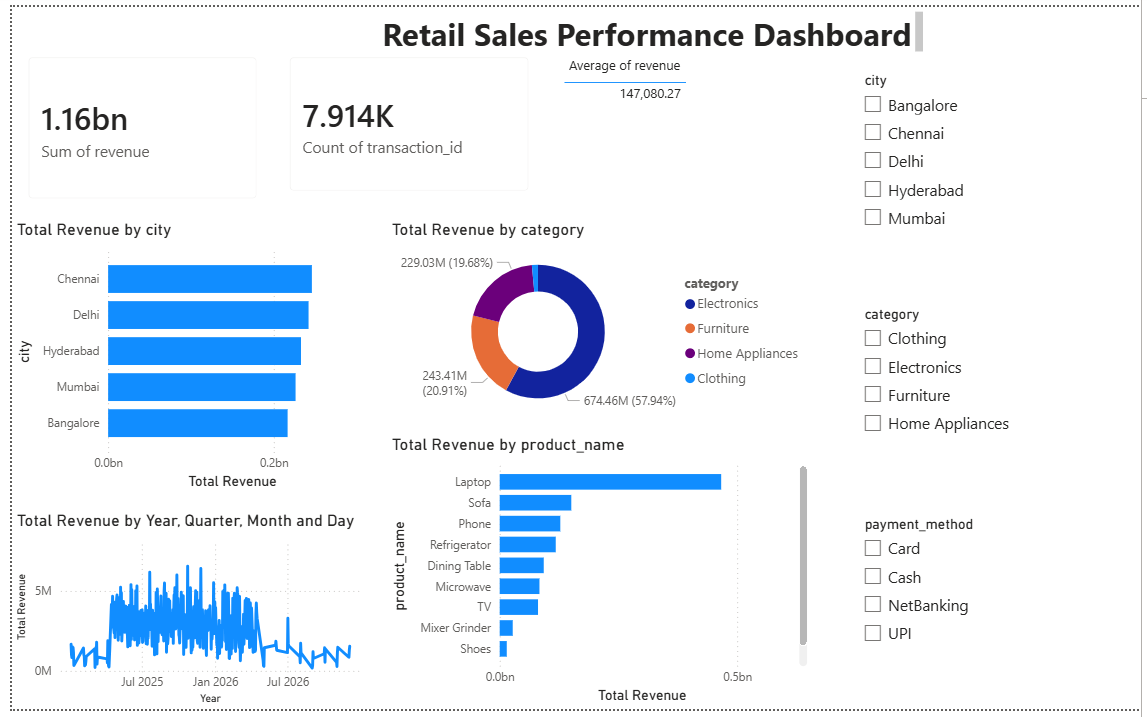

What the dashboard file says about the page in this screenshot:
{"tool":"powerbi","page":{"name":"Page 1","canvas":[1280,720],"ordinal":0},"visuals":[{"type":"cardVisual","fields":{"Data":["Sum(cleaned_retail_sales.revenue)"]},"box":[0,34.1,268.3,179.3],"z":0},{"type":"cardVisual","fields":{"Data":["CountNonNull(cleaned_retail_sales.transaction_id)"]},"box":[267.9,34.6,279.5,171.8],"z":1000},{"type":"tableEx","fields":{"Values":["Avg(cleaned_retail_sales.revenue)"]},"box":[559.7,43.1,279.2,162.5],"z":2000},{"type":"clusteredBarChart","fields":{"Category":["cleaned_retail_sales.city"],"Y":["Sum(cleaned_retail_sales.revenue)"]},"box":[0,218.1,373.6,281.9],"z":3000},{"type":"donutChart","fields":{"Category":["cleaned_retail_sales.category"],"Y":["Sum(cleaned_retail_sales.revenue)"]},"box":[384.7,218.1,436.1,211.1],"z":4000},{"type":"lineChart","fields":{"Y":["Sum(cleaned_retail_sales.revenue)"],"Category":["cleaned_retail_sales.transaction_date.Variation.Date Hierarchy.Year","cleaned_retail_sales.transaction_date.Variation.Date Hierarchy.Quarter","cleaned_retail_sales.transaction_date.Variation.Date Hierarchy.Month","cleaned_retail_sales.transaction_date.Variation.Date Hierarchy.Day"]},"box":[0,516.7,373.6,204.2],"z":5000},{"type":"clusteredBarChart","fields":{"Y":["Sum(cleaned_retail_sales.revenue)"],"Category":["cleaned_retail_sales.product_name"]},"box":[384.7,438.9,436.1,280.6],"z":6000},{"type":"slicer","fields":{"Values":["cleaned_retail_sales.city"]},"box":[861.1,61.1,279.2,188.9],"z":7000},{"type":"slicer","fields":{"Values":["cleaned_retail_sales.category"]},"box":[861.1,301.4,279.2,151.4],"z":8000},{"type":"slicer","fields":{"Values":["cleaned_retail_sales.payment_method"]},"box":[861.1,516.7,281.9,161.1],"z":9000},{"type":"textbox","box":[374.4,0,564.6,51.2],"z":11000}]}

Visuals, with their boxes on the page's 1280x720 design canvas (x1, y1, x2, y2). These are canvas units, not pixel positions in the 1147x717 screenshot, which may show the page scaled, cropped or inside an application window:
cardVisual - Sum(cleaned_retail_sales.revenue): {"x1": 0, "y1": 34, "x2": 268, "y2": 213}
cardVisual - CountNonNull(cleaned_retail_sales.transaction_id): {"x1": 268, "y1": 35, "x2": 547, "y2": 206}
tableEx - Avg(cleaned_retail_sales.revenue): {"x1": 560, "y1": 43, "x2": 839, "y2": 206}
clusteredBarChart - cleaned_retail_sales.city x Sum(cleaned_retail_sales.revenue): {"x1": 0, "y1": 218, "x2": 374, "y2": 500}
donutChart - cleaned_retail_sales.category x Sum(cleaned_retail_sales.revenue): {"x1": 385, "y1": 218, "x2": 821, "y2": 429}
lineChart - Sum(cleaned_retail_sales.revenue) x cleaned_retail_sales.transaction_date.Variation.Date Hierarchy.Year: {"x1": 0, "y1": 517, "x2": 374, "y2": 721}
clusteredBarChart - Sum(cleaned_retail_sales.revenue) x cleaned_retail_sales.product_name: {"x1": 385, "y1": 439, "x2": 821, "y2": 720}
slicer - cleaned_retail_sales.city: {"x1": 861, "y1": 61, "x2": 1140, "y2": 250}
slicer - cleaned_retail_sales.category: {"x1": 861, "y1": 301, "x2": 1140, "y2": 453}
slicer - cleaned_retail_sales.payment_method: {"x1": 861, "y1": 517, "x2": 1143, "y2": 678}
textbox: {"x1": 374, "y1": 0, "x2": 939, "y2": 51}
